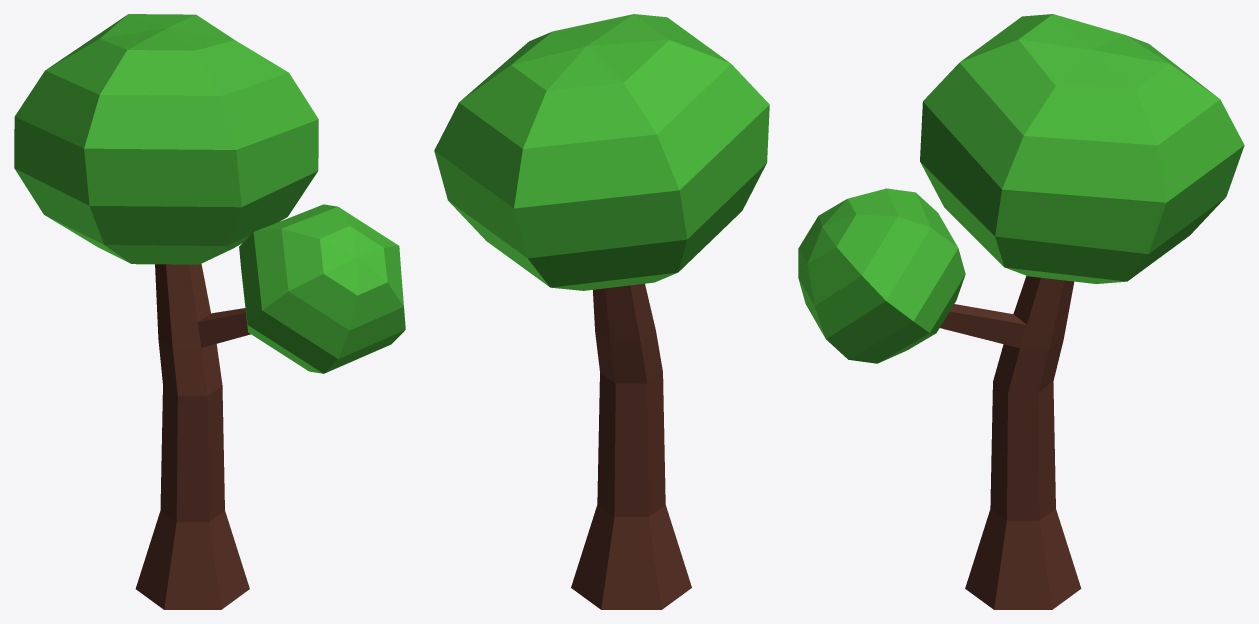
Rendered from Boom2.fbx.
3 renders of one model, left to right at view 1: azimuth 30°, elevation 25°; view 2: azimuth 150°, elevation 25°; view 3: azimuth 270°, elevation 25°, orthographic. The views are drawn at different scales.
Visible parts, largest first — view 1: Cylinder.001; view 2: Cylinder.001; view 3: Cylinder.001.
Boxes of the visible parts, x1,y1,x2,y2 form: Cylinder.001: [14, 14, 405, 609]; Cylinder.001: [434, 14, 769, 609]; Cylinder.001: [798, 14, 1244, 609].
Size of the model in its own units: 67.51 by 135 by 99.05.
